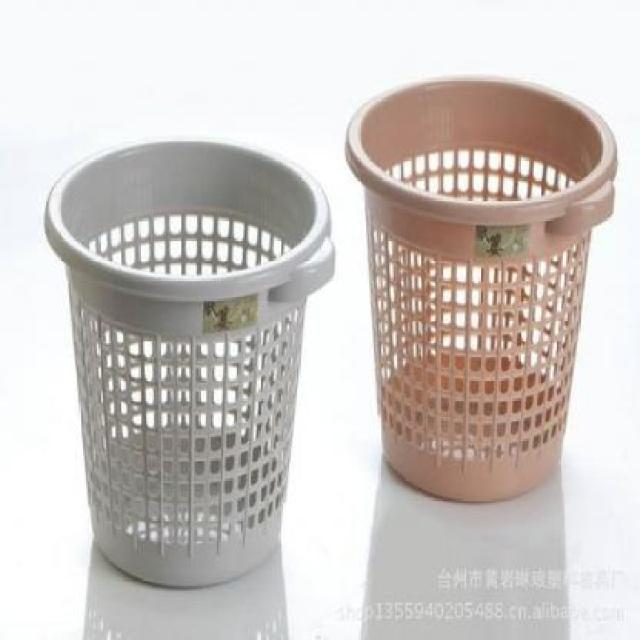dustbin: (42, 131, 338, 593), (342, 66, 620, 508)
